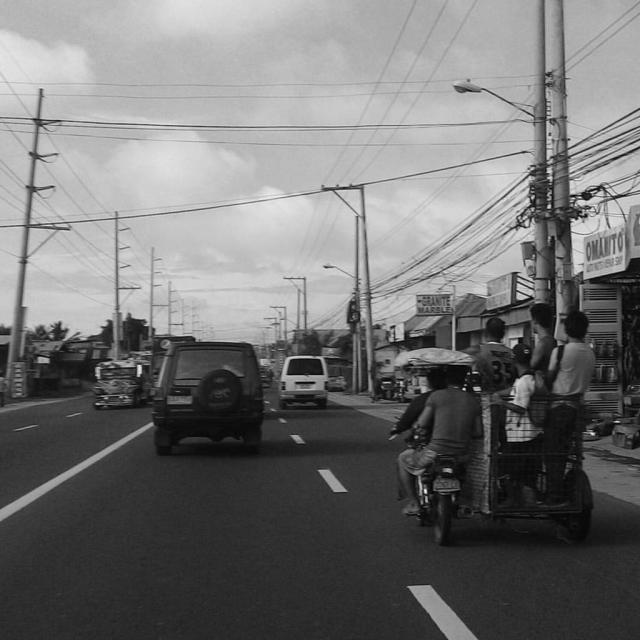car: (148, 343, 264, 457), (277, 354, 325, 411)
